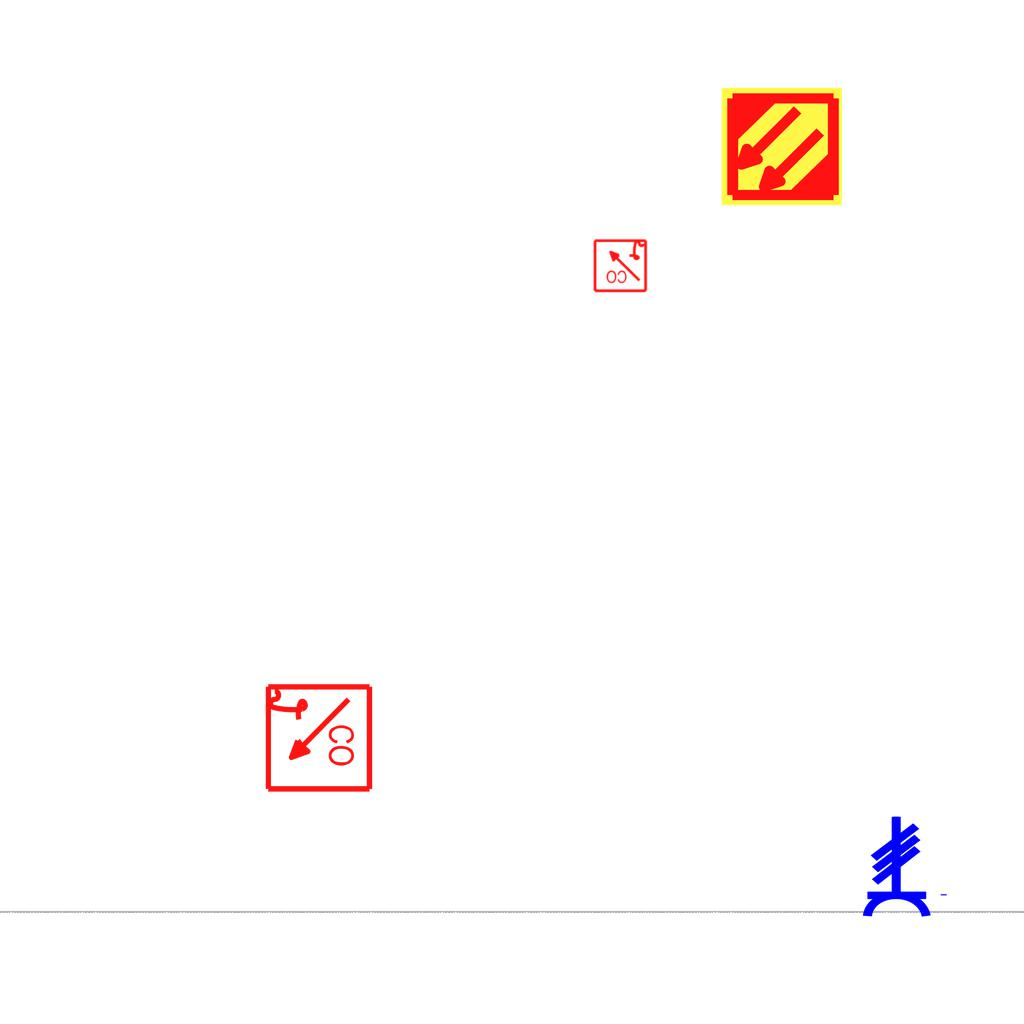ASR_Ansaugrauchmelder: (719, 84, 844, 209)
CEE_Drehstrom_Steckdose_16_32_A: (860, 815, 950, 919)
ROA_Rauchmelder_optisch_mit_Signalgeber_(Sockelsirene): (261, 682, 374, 795), (592, 237, 648, 293)
